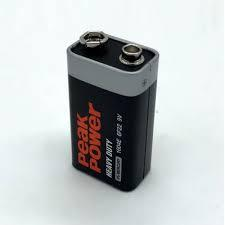9V: (61, 29, 166, 195)
